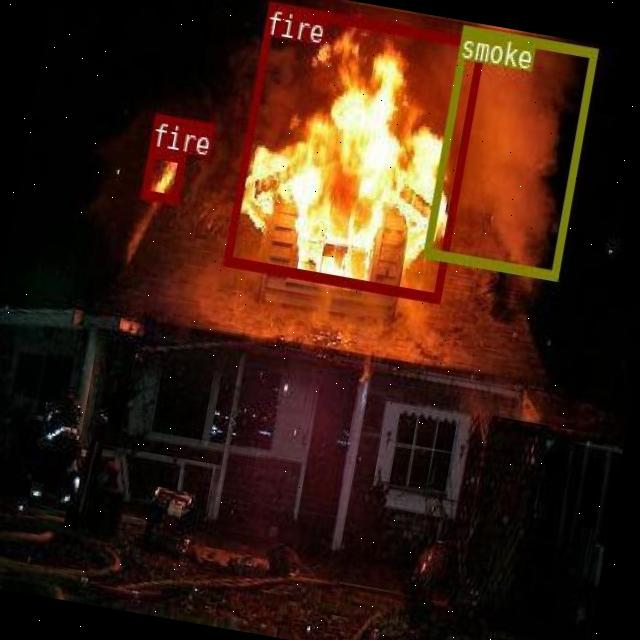fire: (222, 0, 483, 302), (140, 146, 184, 202)
smoke: (422, 25, 596, 278)
